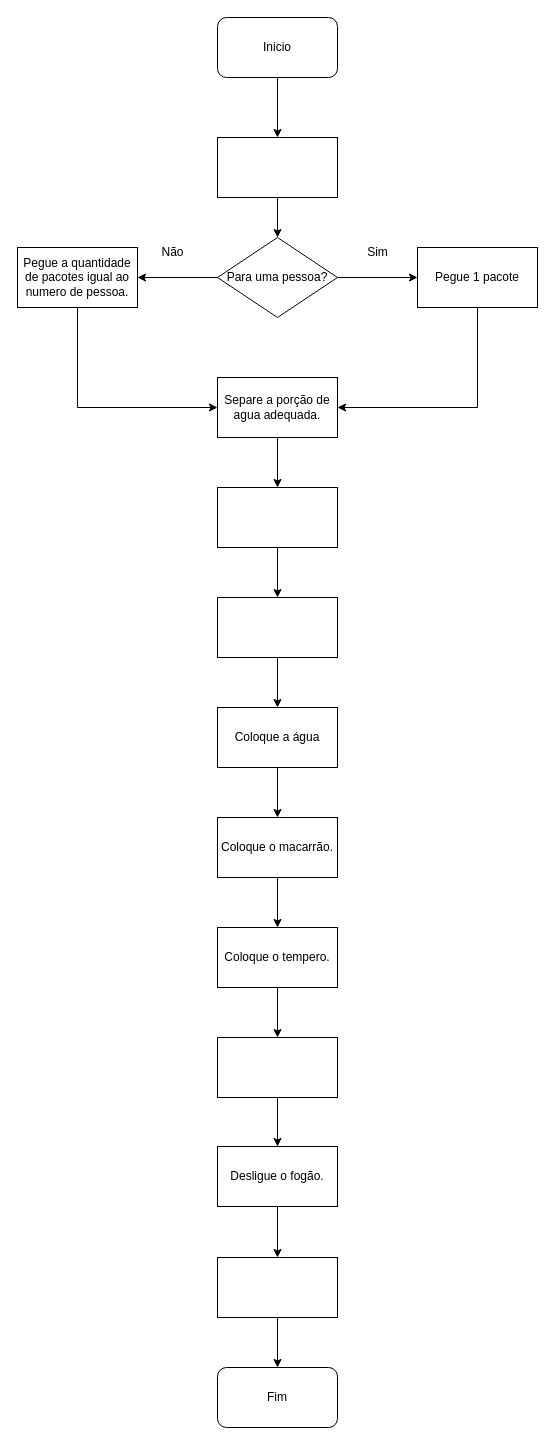
Image size: 555x1445. Some labels were removed from this diagram. The shapes that lost their labels are listed below. From the top down, each one's box as (x1, y1, x2, y2) in pixels, then its label:
(216, 136, 338, 198): Pegue uma panela adequada
(216, 486, 338, 548): Ligar o fogão.
(216, 596, 338, 658): Coloque a panela no fogão
(216, 1036, 338, 1098): Aguarde três minutos após o inicio da água fervente.
(216, 1256, 338, 1318): Sirva.
